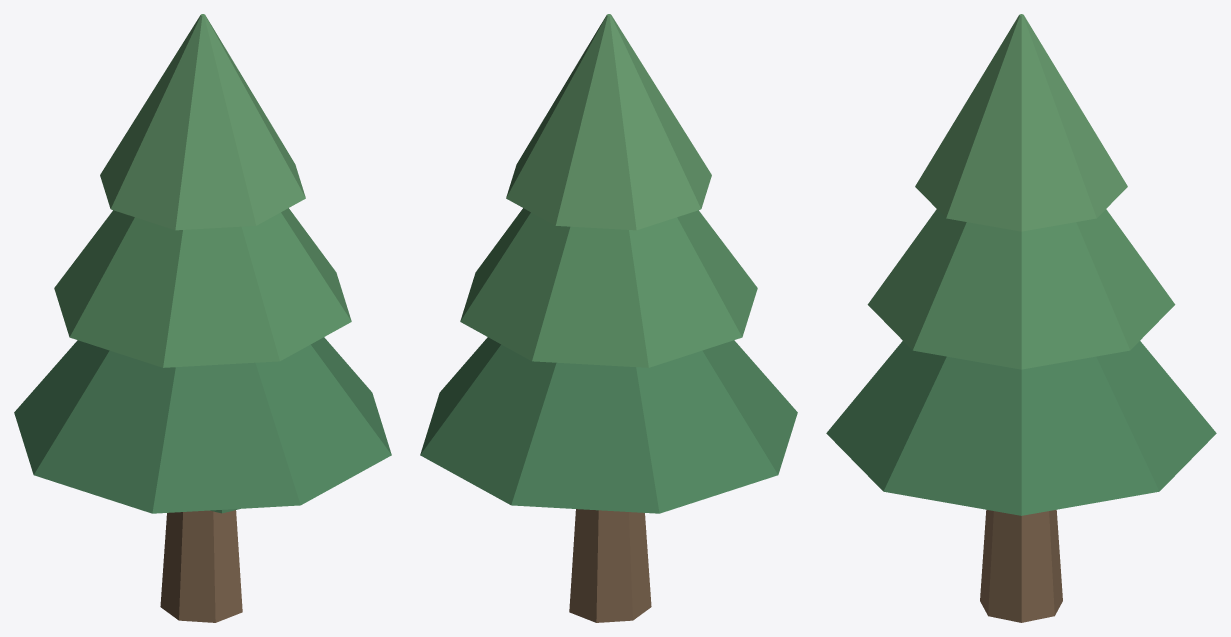
Rendered from pine_tree.glb.
The picture shows the model from 3 angles, left to right: view 1: azimuth 30°, elevation 25°; view 2: azimuth 150°, elevation 25°; view 3: azimuth 270°, elevation 25°; orthographic projection.
Bounding box in the file's own units: 3.3 × 5.5 × 3.3.
